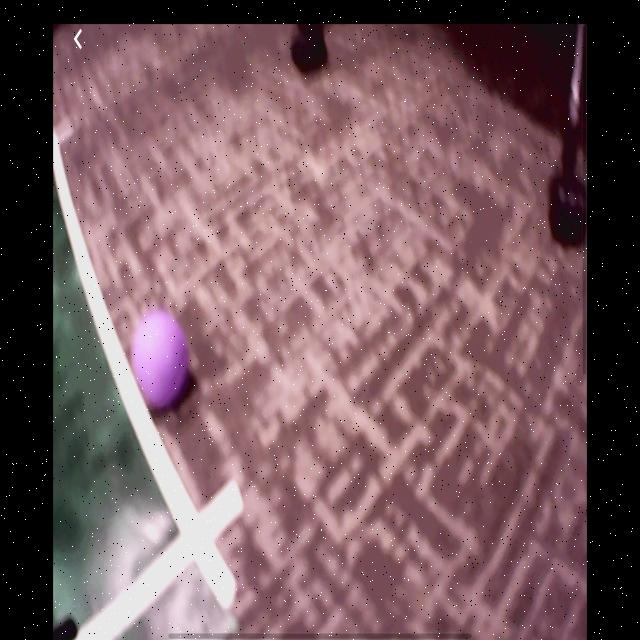ball: (130, 308, 192, 414)
